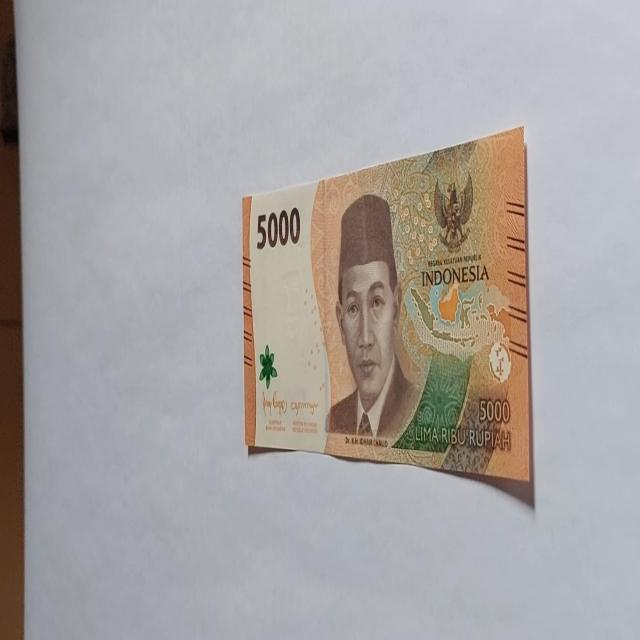lima ribu rupiah: (240, 127, 536, 508), (326, 192, 422, 443)
